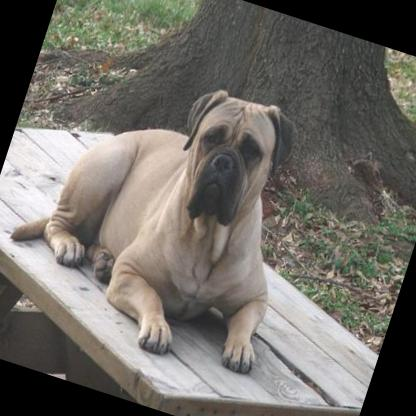bull_mastiff: (0, 39, 332, 381)
